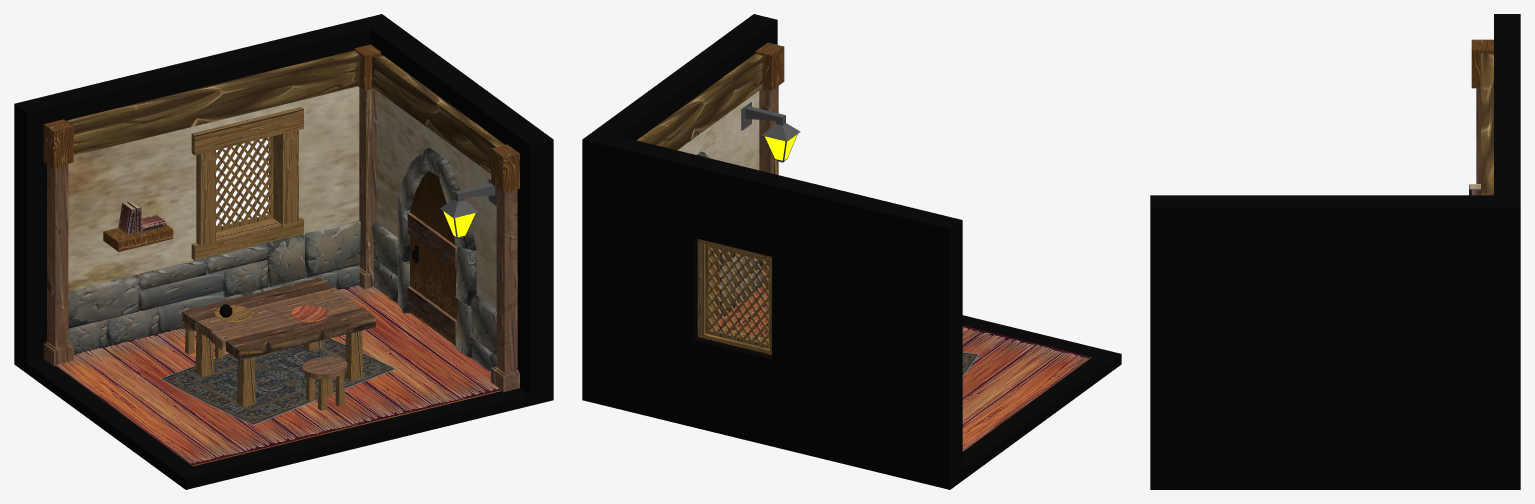
File: old_room.glb
3 renders of one model, left to right at view 1: azimuth 30°, elevation 25°; view 2: azimuth 150°, elevation 25°; view 3: azimuth 270°, elevation 25°, orthographic. The views are drawn at different scales.
Parts seen in each view (by area): view 1: Box002, Object004_Material #4_0, Box001, Box006, Box003, Box011_01 - Default_0, Box004, Plane001, Box007, Object002_01 - Default2_0, Box016, Box012_01 - Default_0 (+2 smaller); view 2: Box002, Box006, Box001, Box016, Object004_Material #4_0, Box004, Box014; view 3: Box002, Box001.
Part boxes in pixels (<box>): Box002: <box>14,14,553,489</box>; Object004_Material #4_0: <box>68,86,496,320</box>; Box001: <box>43,44,519,391</box>; Box006: <box>55,285,501,466</box>; Box003: <box>68,220,496,370</box>; Box011_01 - Default_0: <box>182,278,375,407</box>; Box004: <box>191,107,303,260</box>; Plane001: <box>160,338,395,425</box>; Box007: <box>407,170,459,345</box>; Object002_01 - Default2_0: <box>397,147,476,357</box>; Box016: <box>216,136,273,231</box>; Box012_01 - Default_0: <box>302,356,347,410</box>; Box002: <box>582,14,1121,489</box>; Box006: <box>715,287,1091,451</box>; Box001: <box>637,42,784,286</box>; Box016: <box>705,244,769,348</box>; Object004_Material #4_0: <box>677,91,759,170</box>; Box004: <box>697,239,771,354</box>; Box014: <box>741,102,800,162</box>; Box002: <box>1150,14,1520,489</box>; Box001: <box>1471,39,1493,195</box>.
Bounding box in the file's own units: 190 × 129 × 153.
8 materials, 5 textured.
